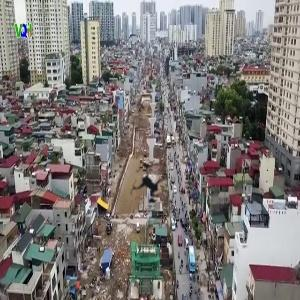drone: (107, 144, 189, 226)
